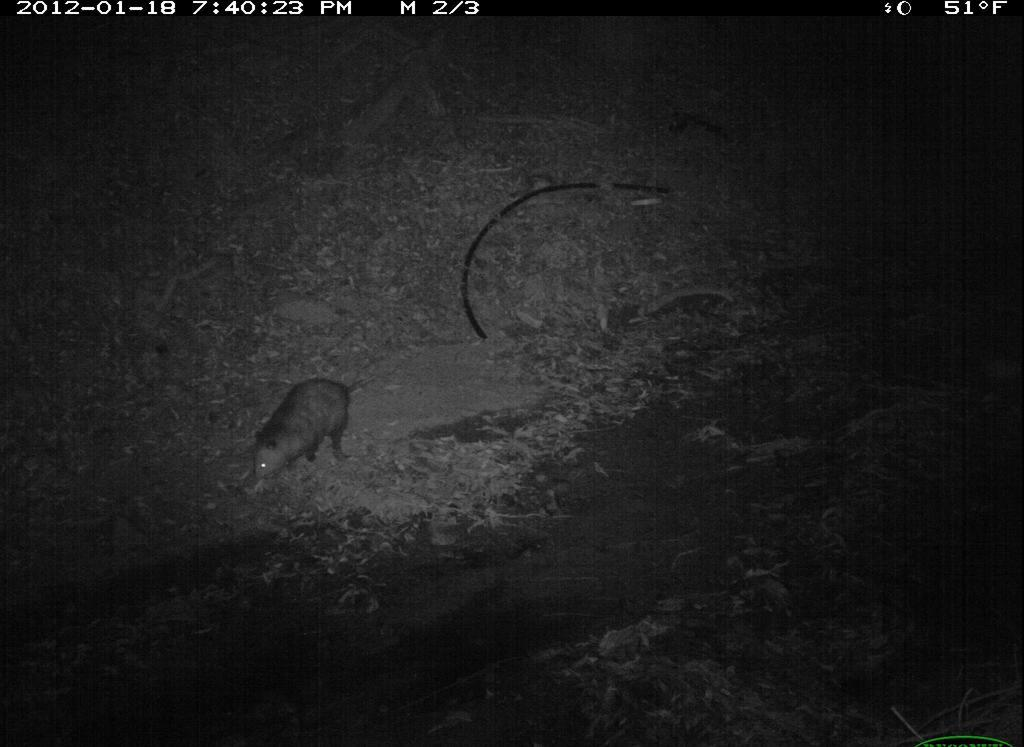opossum: (246, 367, 386, 487)
